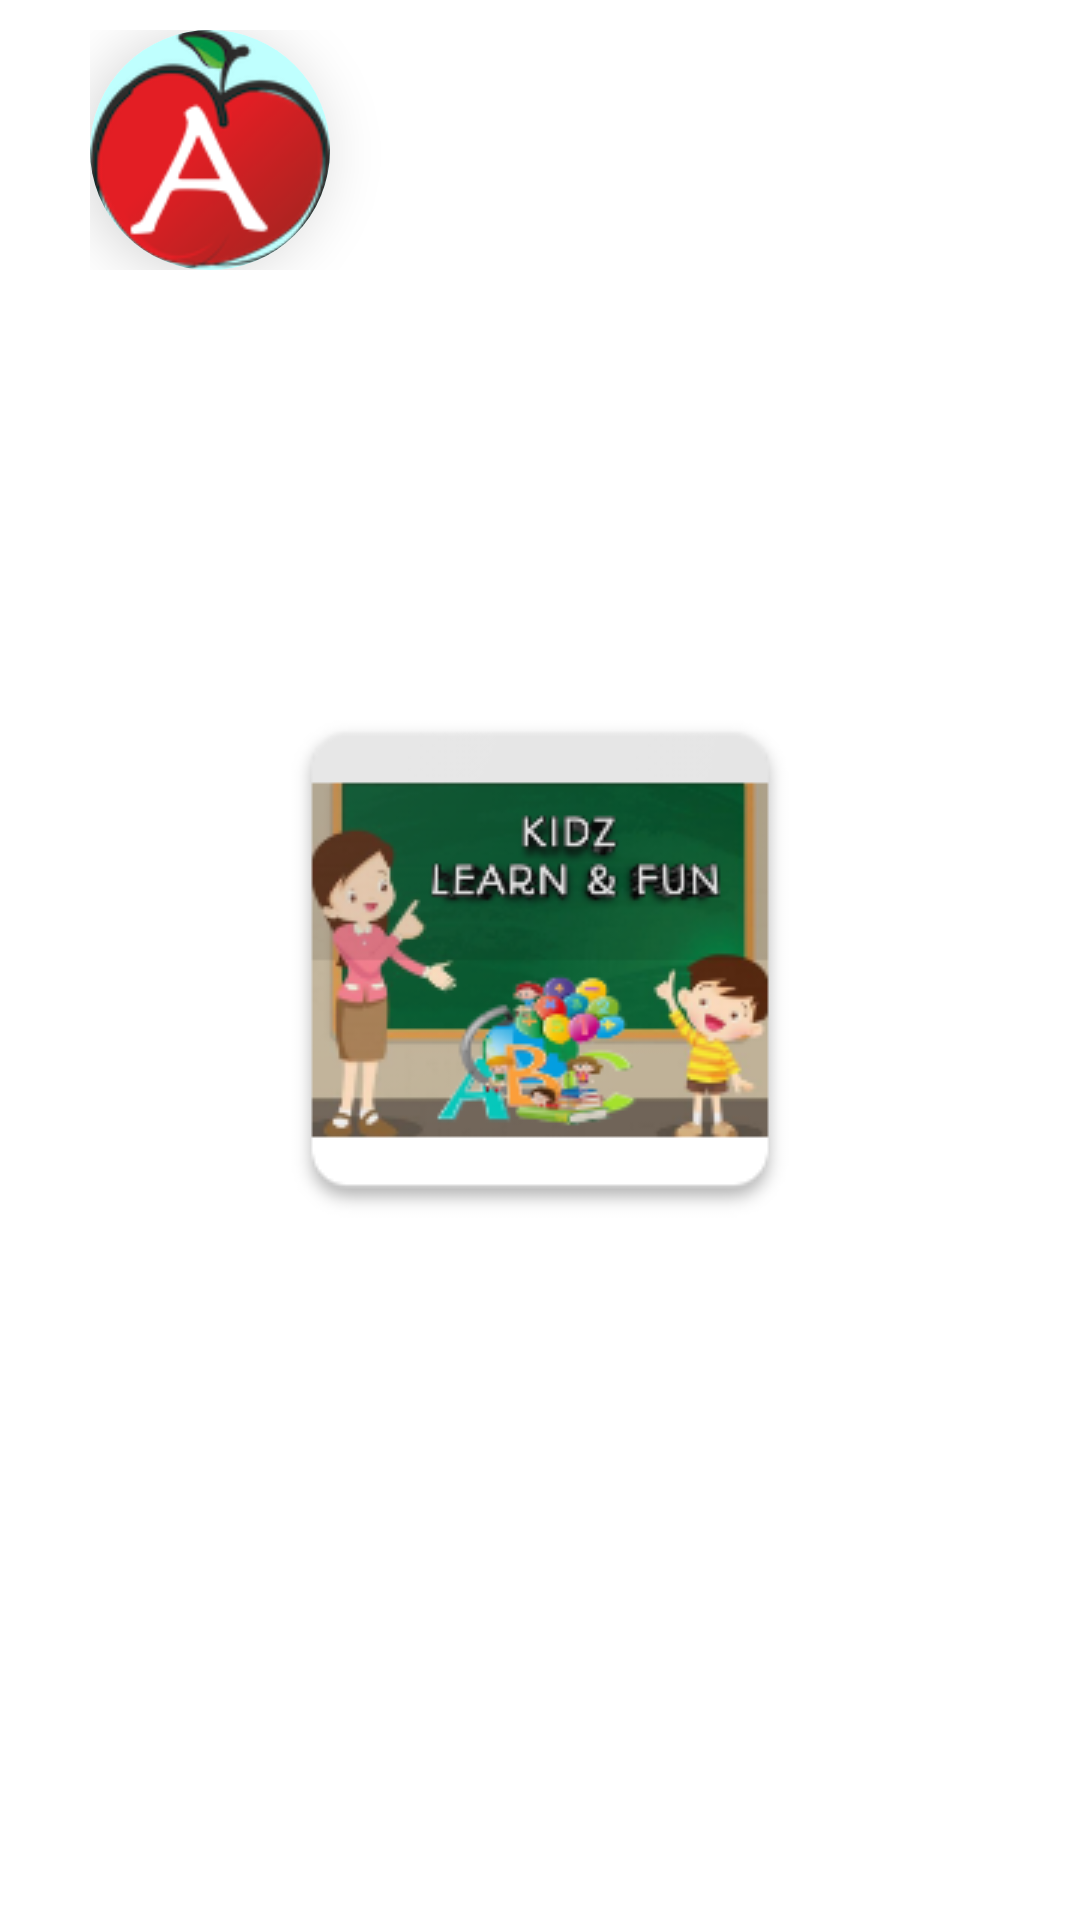

Icon bounding boxes for this 1080*1920 phone screenshot, format (x1, y1, x2, y2):
alphabet main: (90, 30, 330, 270)
